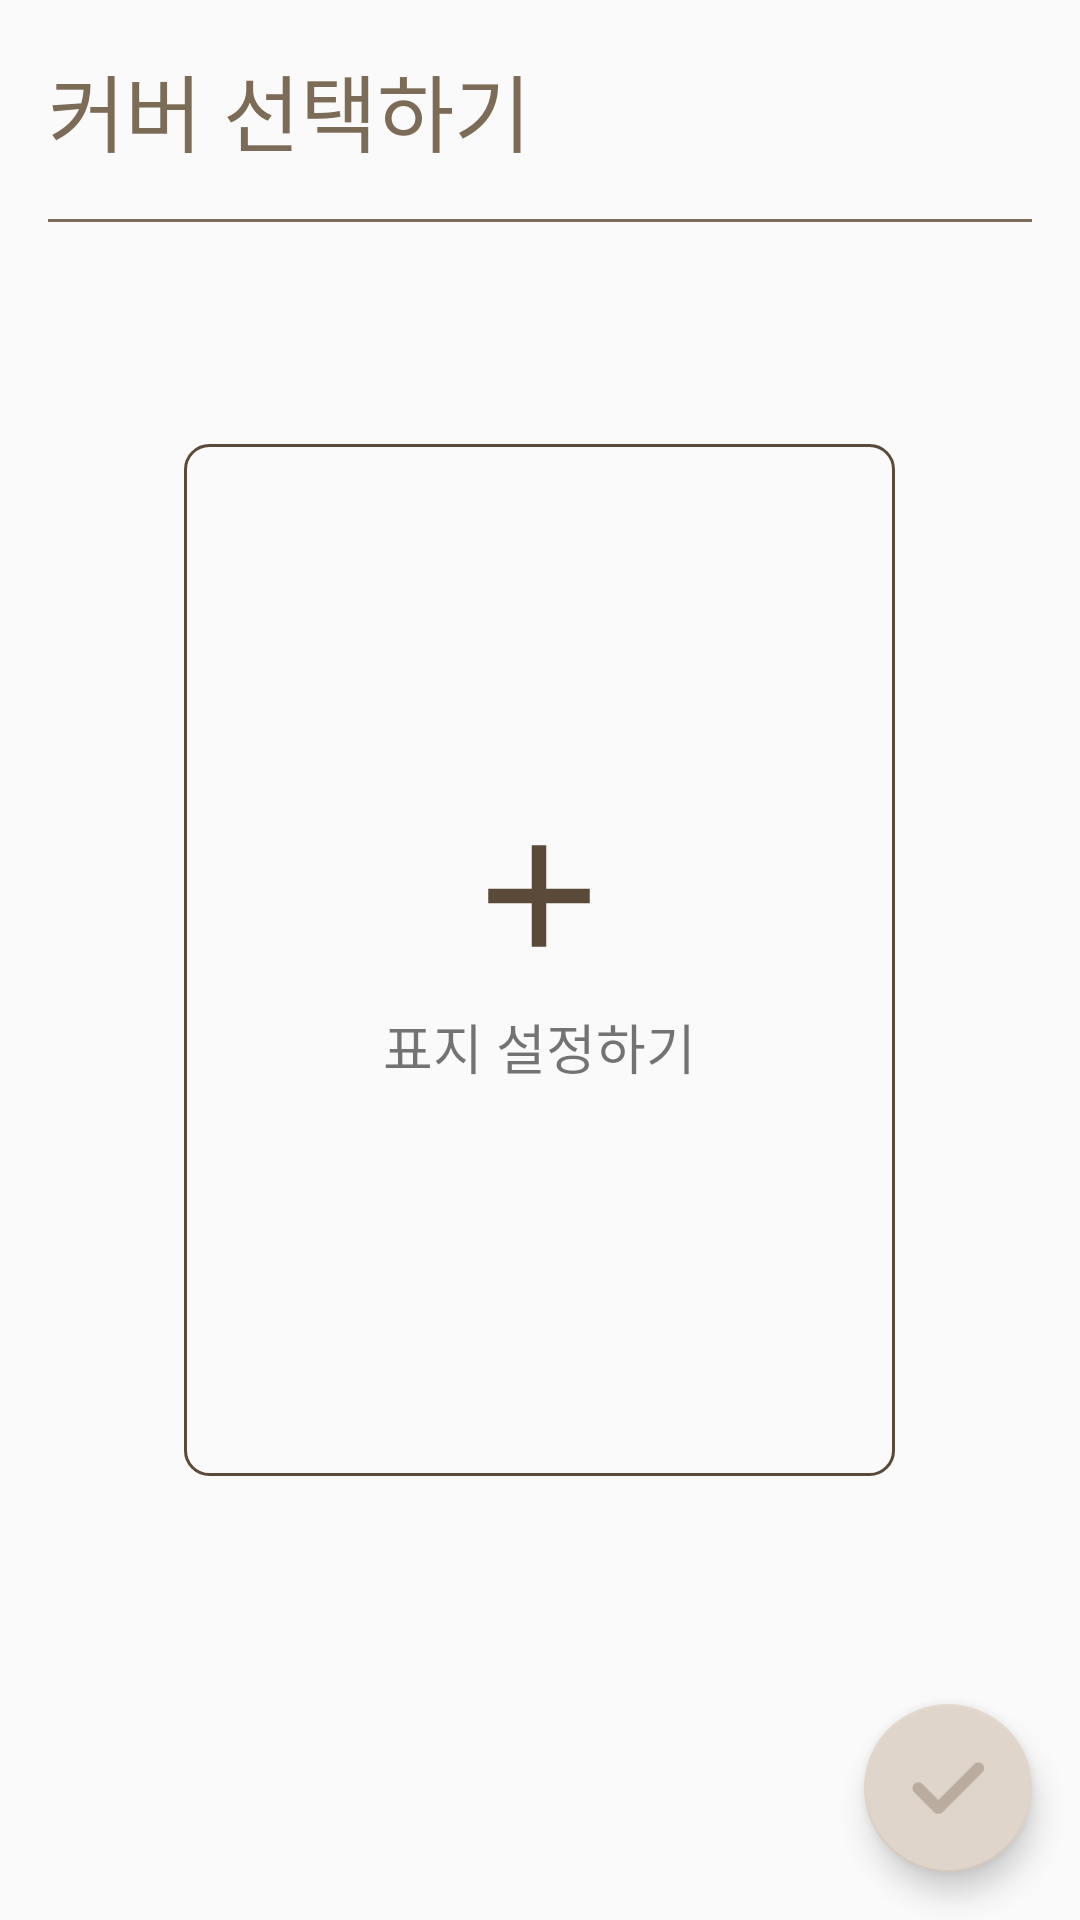

Icons on this 1080w x 1920h Android screen, each with the point to tap as point (x, y):
plus: point (539, 896)
submit: point (948, 1788)
